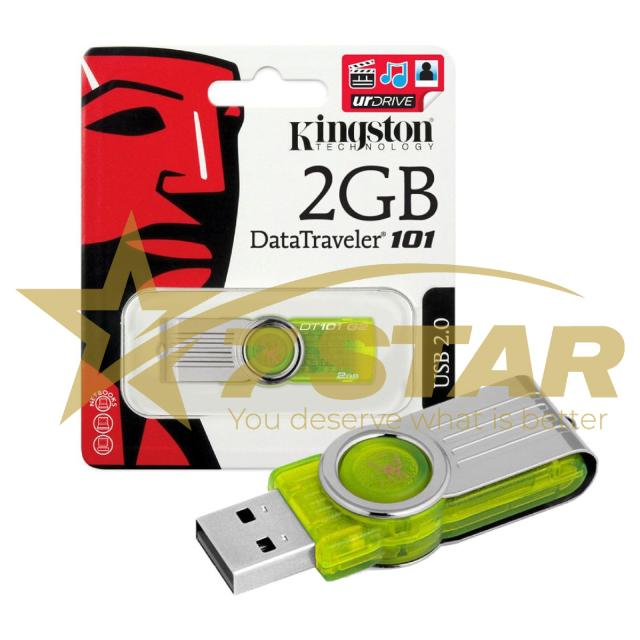USB-Flash-Drive: (196, 375, 599, 596)
